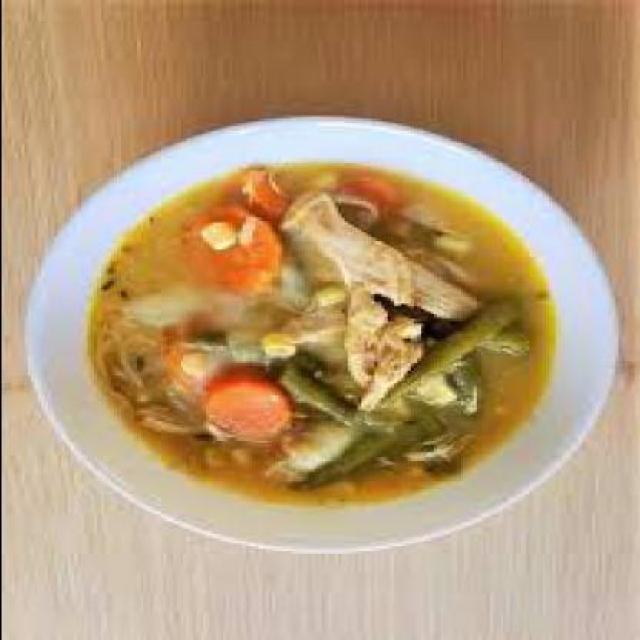BIODEGRADABLE: (96, 168, 261, 504), (386, 168, 548, 502), (86, 286, 548, 391), (260, 165, 383, 504), (284, 195, 478, 318), (366, 294, 525, 400), (284, 403, 442, 489), (336, 284, 419, 408), (172, 202, 277, 295), (195, 366, 293, 434), (122, 282, 245, 331), (273, 354, 353, 428), (155, 323, 214, 391), (323, 173, 389, 230), (442, 308, 524, 352), (235, 168, 287, 223), (251, 331, 297, 358), (174, 329, 223, 353), (309, 277, 340, 311)
